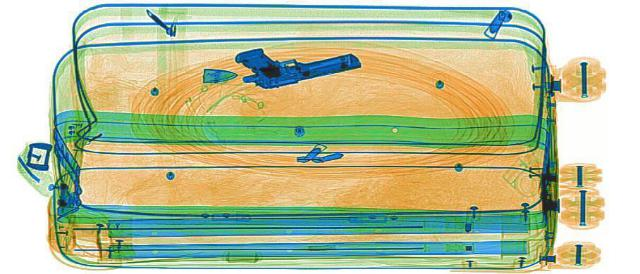Gun: (211, 32, 369, 89)
